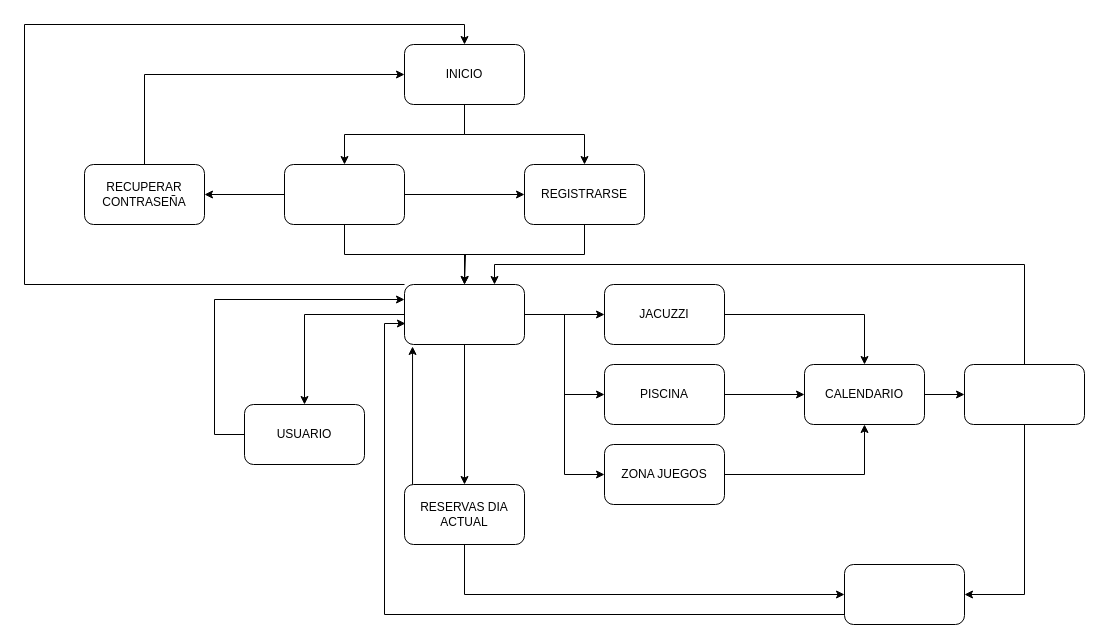
Image size: 1102x642. Some labels were removed from this diagram. The centre of each missing label's shape, as x and y in pixels:
HOME: point (464, 314)
INICIAR SESIÓN: point (344, 194)
NUEVA RESERVA: point (904, 594)
RESERVAS DIARIAS: point (1024, 394)
